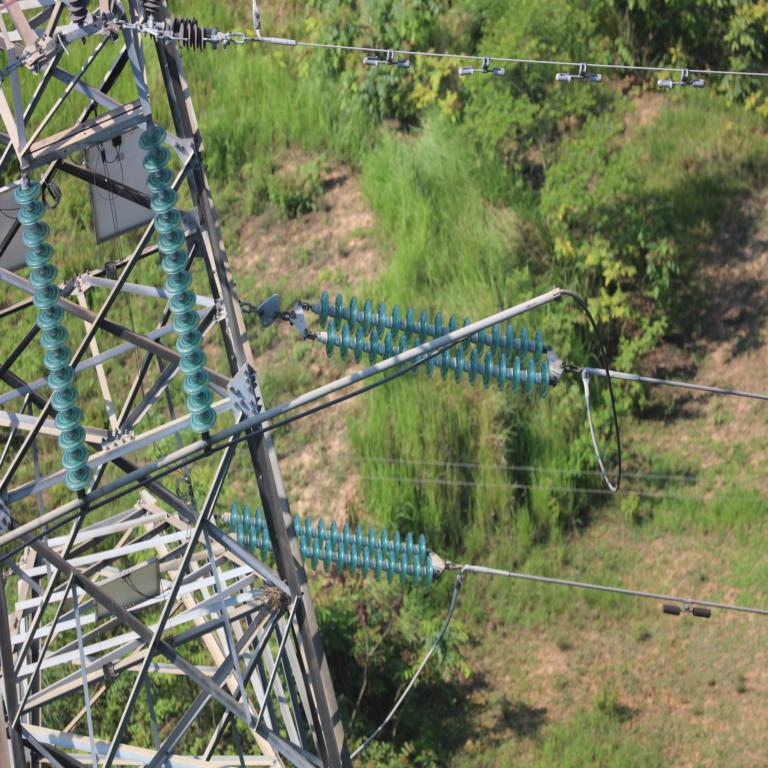nest: (260, 581, 287, 611)
